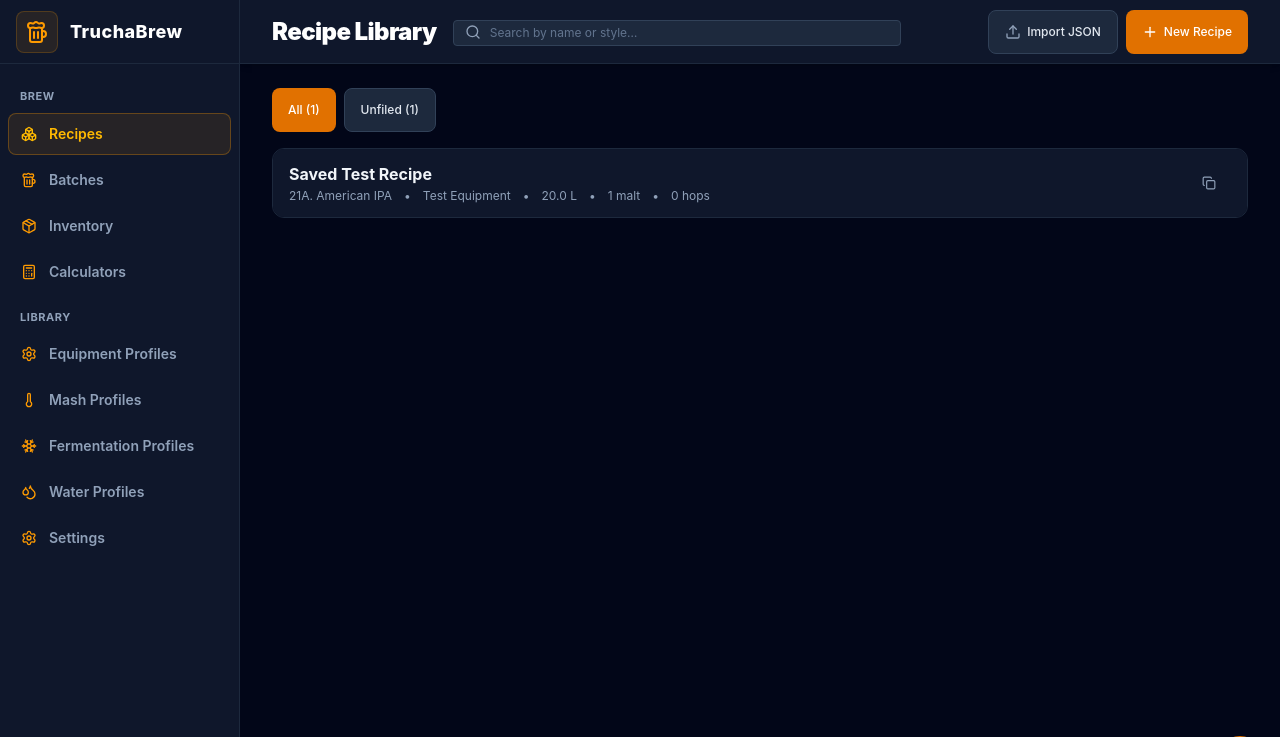
Milestone 14 Phase 1: Accessibility, Token Consolidation & UI/UX Polish › AC-11: Scale modal renders role="dialog", aria-modal="true", aria-labelledby, and the target-size aria-label (M25_P1 RA-6) › opening the scale modal exposes the full AC-11 attribute set on the real DOM
Step 1. Click the text "Saved Test Recipe" → {"x": 360, "y": 174}, box [289,164,432,184]
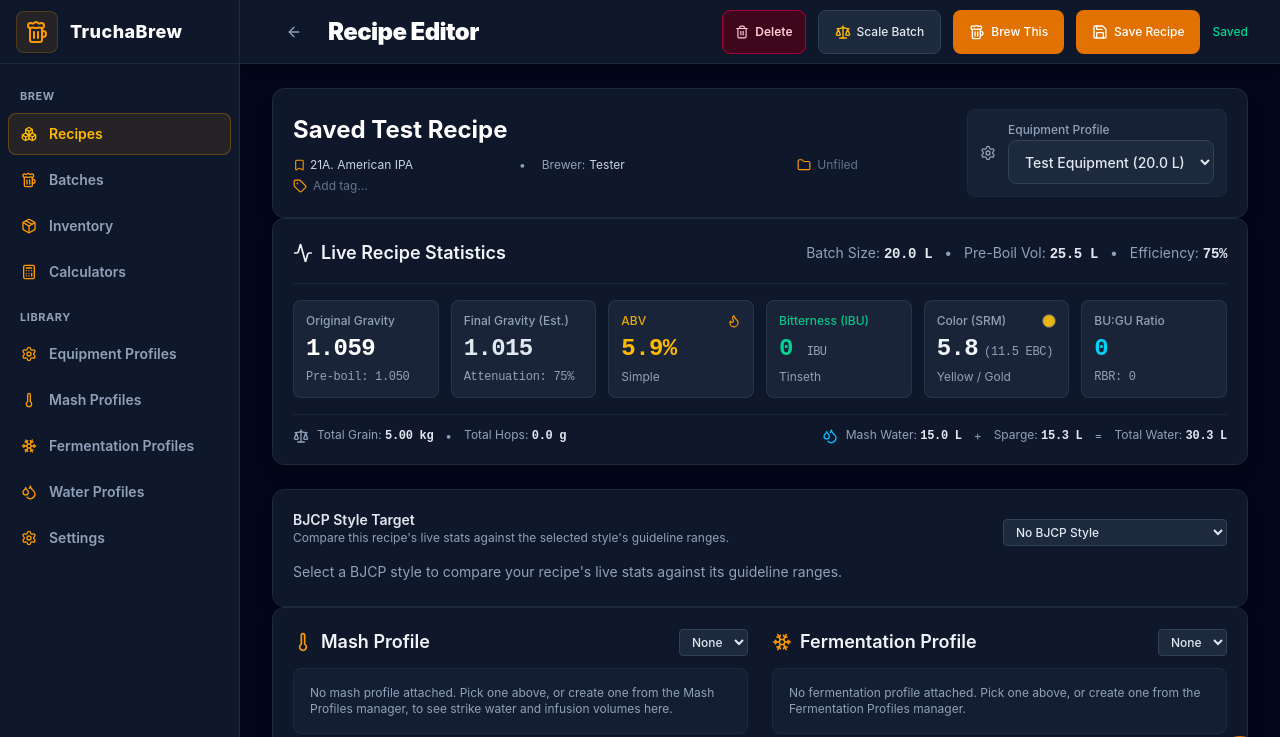
Check: the button "Brew This" is shown, box [953,10,1064,54]
Step 2. Click the button "Scale Batch" → {"x": 879, "y": 32}, box [818,10,941,54]
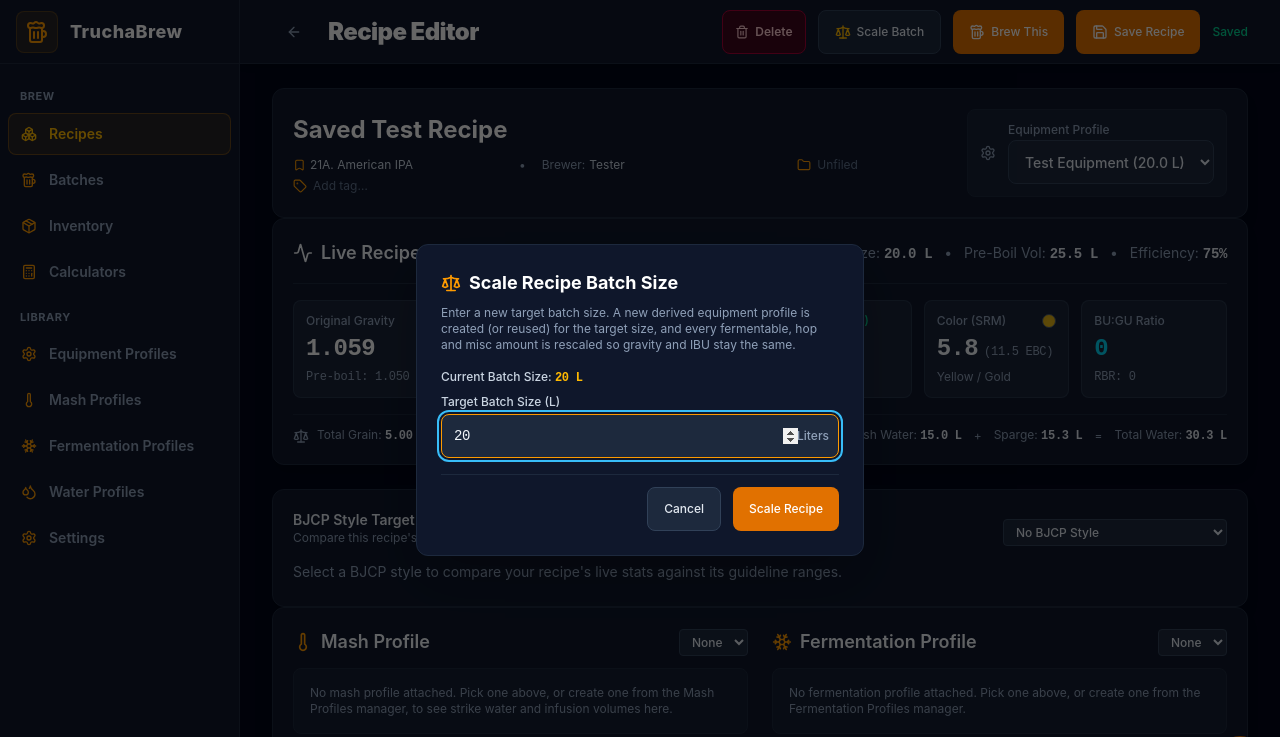
Check: the heading "Scale Recipe Batch Size" is shown, box [441,272,678,293]
Check: the number field named "Target batch size in liters" is shown, box [441,414,839,458]
